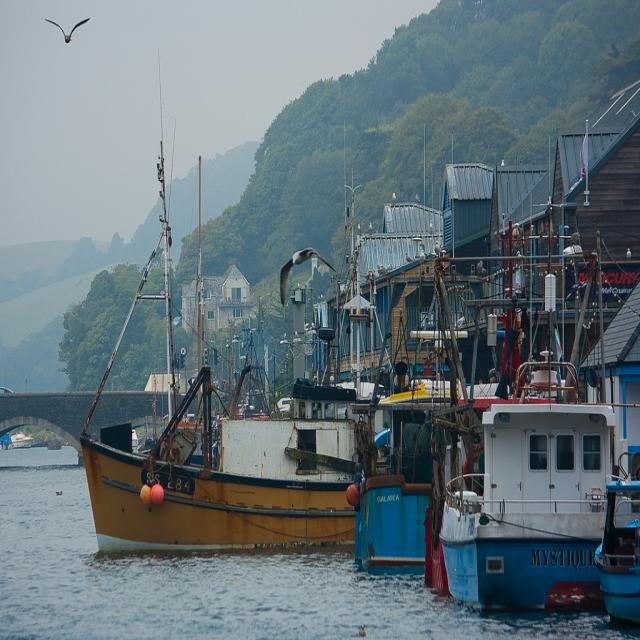Boat: (80, 48, 396, 554), (431, 314, 635, 610), (354, 122, 447, 570), (596, 451, 640, 630)
